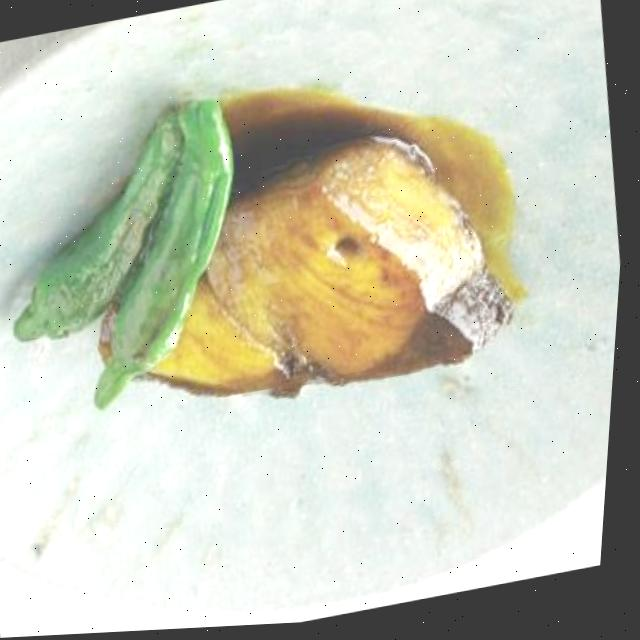熟制海鲜: (57, 108, 550, 476)
